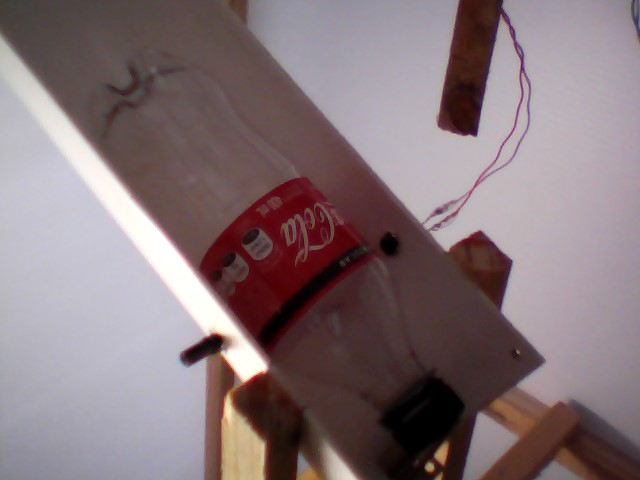plastico: (75, 44, 490, 459)
